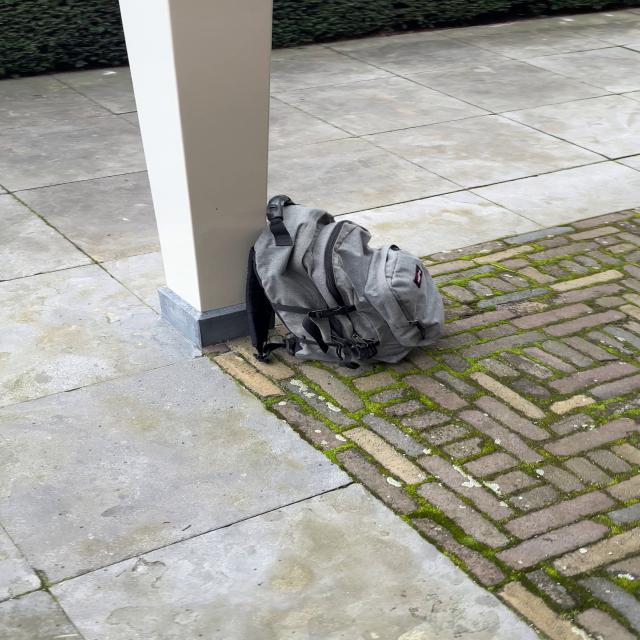backpack: (235, 192, 456, 374)
